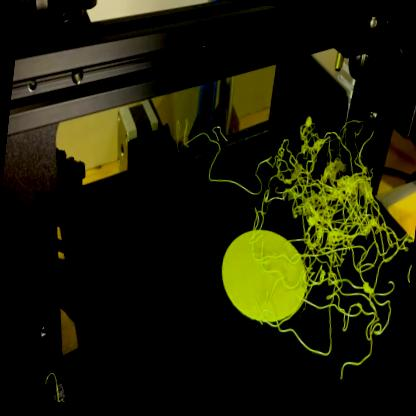fail: (236, 111, 416, 391)
